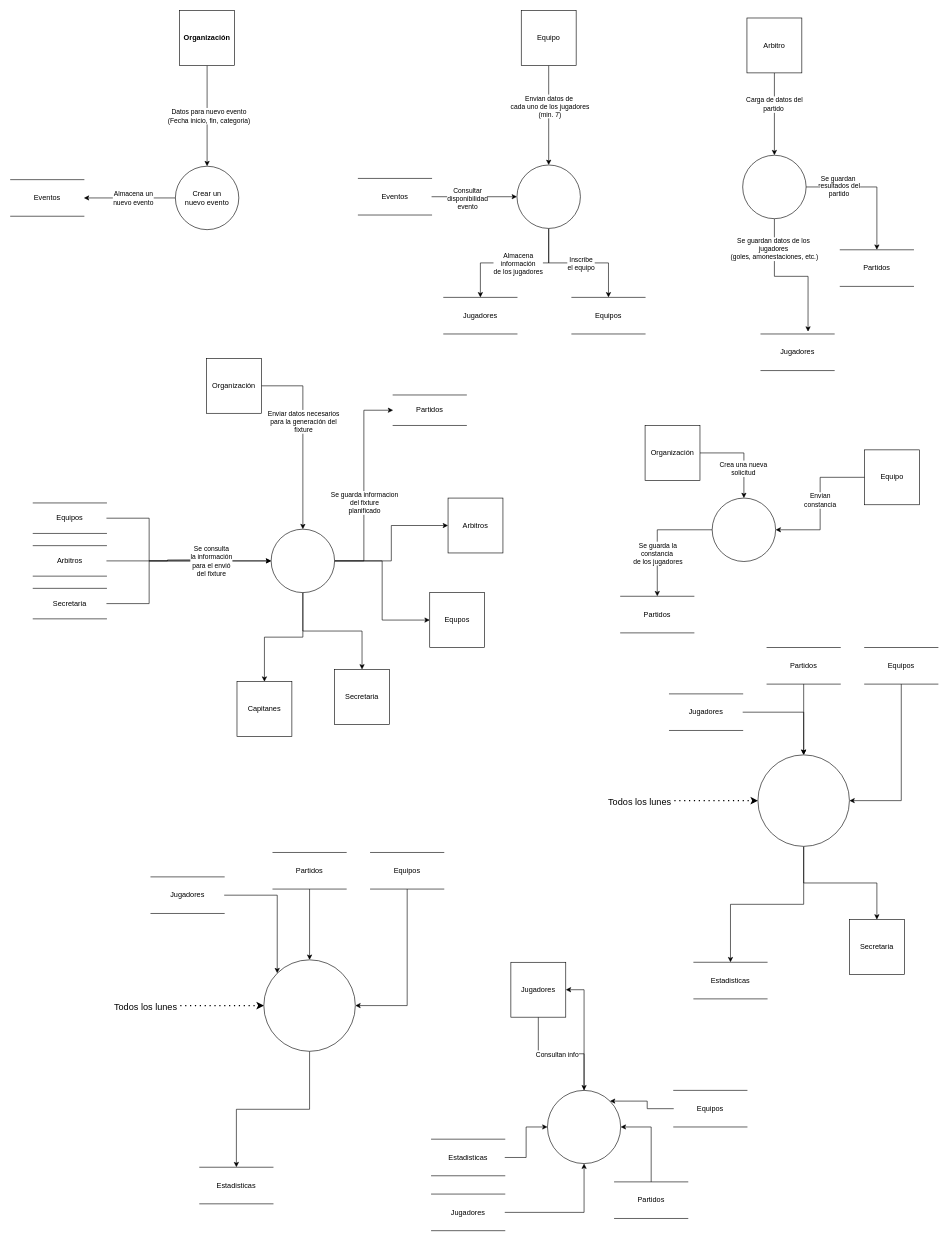
This 949x1241 diagram has some shape labels left out. The centre of each missing label's shape, as x and y in pixels:
"Calcular Puntos y Posiciones Generar Tabla de Goleadores Evaluar Fair Play" belongs at pixel 803 800.
"Carga de datos de partidos" belongs at pixel 774 187.
"generar los resultados de las ultimas fechas" belongs at pixel 309 1005.
"Generar y enviar fixture" belongs at pixel 303 561.
"Inscribir un nuevo equipo" belongs at pixel 548 196.
"Solicitar detalles de cada equipo" belongs at pixel 584 1127.
"Solicitud de constancia" belongs at pixel 744 529.
